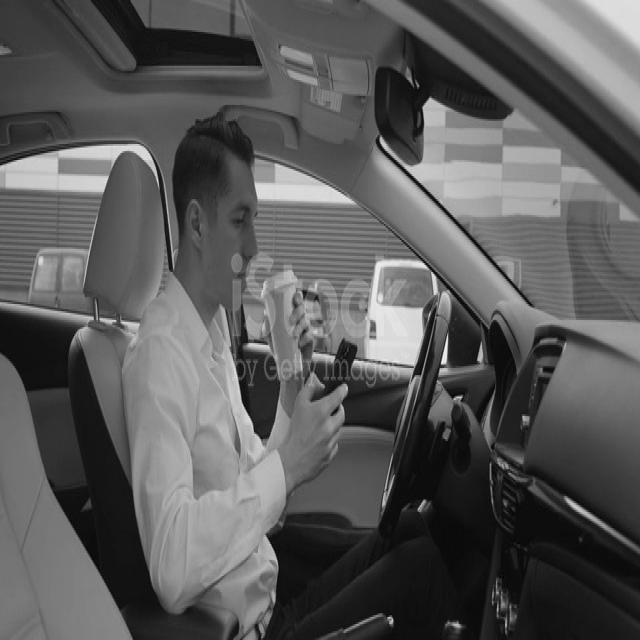Drinking: (167, 111, 328, 375)
